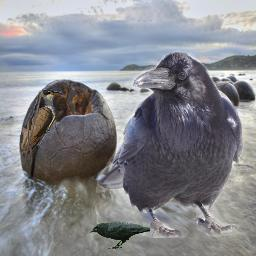Crow: (96, 49, 243, 238), (89, 221, 150, 249)
Cuckoo: (19, 89, 74, 158)
